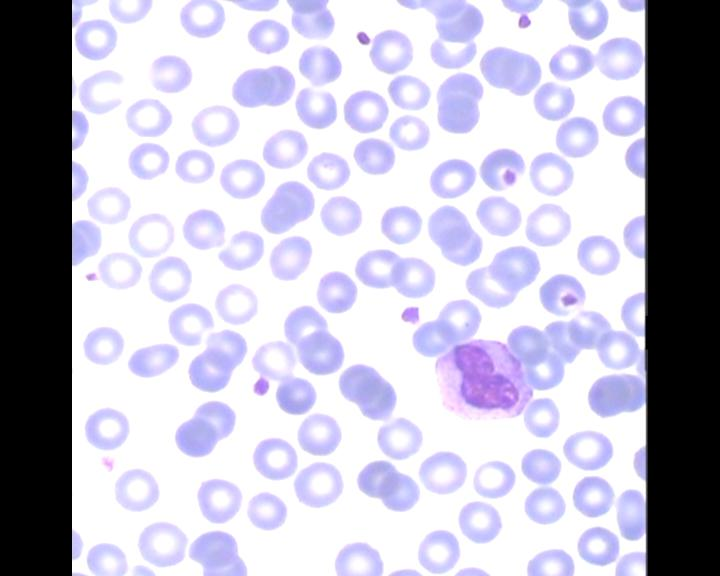mono: (426, 336, 535, 427)
